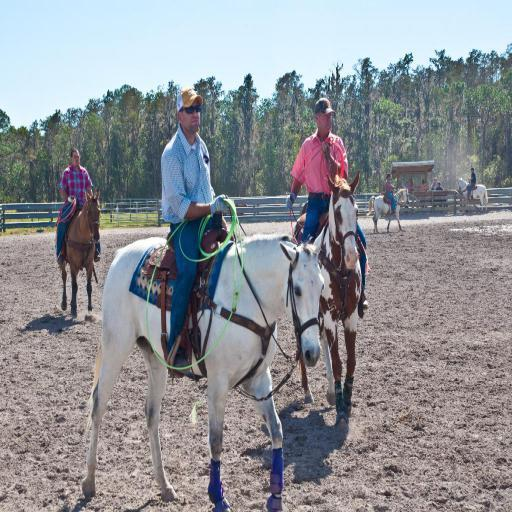horse: (76, 232, 326, 512), (288, 172, 364, 431), (56, 188, 102, 318), (366, 186, 410, 236), (457, 174, 489, 214)
